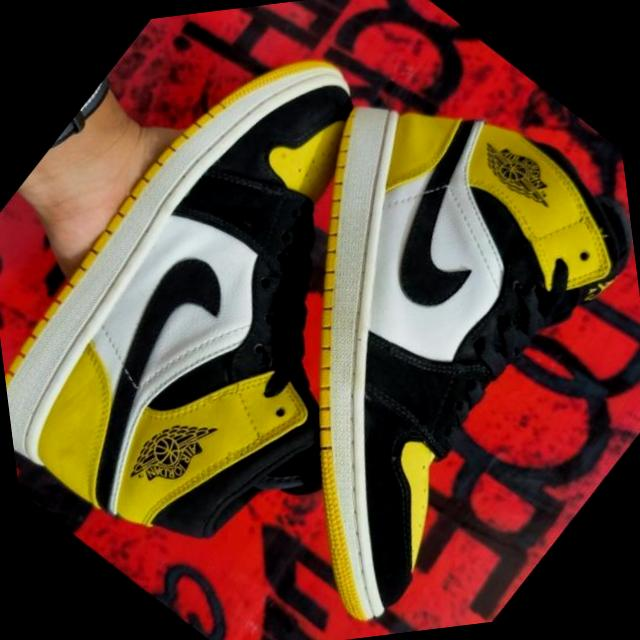nike_fake_jordan: (55, 8, 640, 640), (0, 0, 553, 616)
